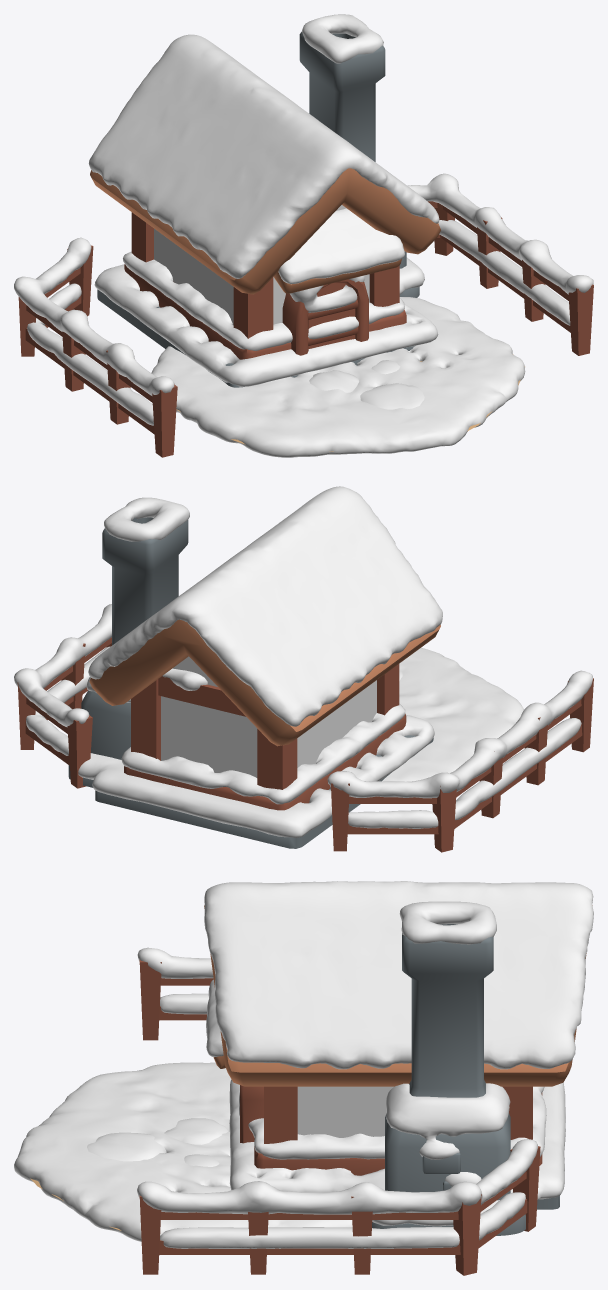
The model's file is house.fbx.
The picture shows the model from 3 angles, top to bottom: view 1: azimuth 30°, elevation 25°; view 2: azimuth 150°, elevation 25°; view 3: azimuth 270°, elevation 25°; orthographic projection. The views are drawn at different scales.
Parts seen in each view (by area): view 1: SnowBall.001, SnowBall.004, SnowBall.002, house.003, SnowBall.003, house.004, house.001, house.002; view 2: SnowBall.001, SnowBall.002, house.003, SnowBall.003, house.001, SnowBall.004, house.004, house.002; view 3: SnowBall.001, SnowBall.002, SnowBall.004, house.001, house.003, SnowBall.003, house.004, house.002.
Boxes of the visible parts, left/top/right/bottom form: SnowBall.001: left=88, top=34, right=439, bottom=284; SnowBall.004: left=151, top=297, right=525, bottom=457; SnowBall.002: left=14, top=173, right=593, bottom=425; house.003: left=18, top=201, right=593, bottom=457; SnowBall.003: left=94, top=14, right=438, bottom=386; house.004: left=90, top=168, right=440, bottom=294; house.001: left=97, top=31, right=419, bottom=387; house.002: left=154, top=205, right=369, bottom=325; SnowBall.001: left=88, top=486, right=442, bottom=726; SnowBall.002: left=14, top=604, right=592, bottom=828; house.003: left=17, top=637, right=593, bottom=852; SnowBall.003: left=78, top=497, right=434, bottom=837; house.001: left=68, top=517, right=433, bottom=848; SnowBall.004: left=382, top=647, right=523, bottom=781; house.004: left=89, top=619, right=440, bottom=746; house.002: left=161, top=656, right=376, bottom=777; SnowBall.001: left=204, top=881, right=593, bottom=1069; SnowBall.002: left=87, top=947, right=546, bottom=1248; SnowBall.004: left=14, top=1062, right=352, bottom=1241; house.001: left=372, top=924, right=559, bottom=1235; house.003: left=139, top=960, right=542, bottom=1275; SnowBall.003: left=229, top=901, right=565, bottom=1226; house.004: left=204, top=905, right=592, bottom=1086; house.002: left=297, top=1086, right=393, bottom=1137.
Size of the model in its own units: 170 by 97.08 by 167.
